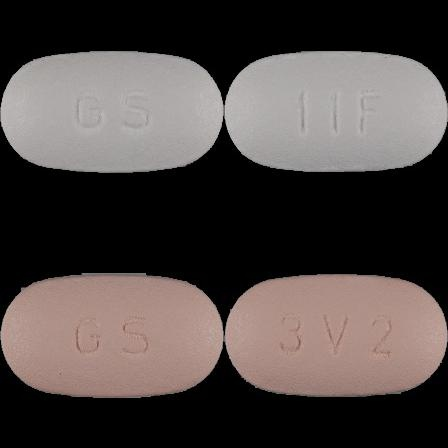0007-4883: (0, 0, 224, 224)
